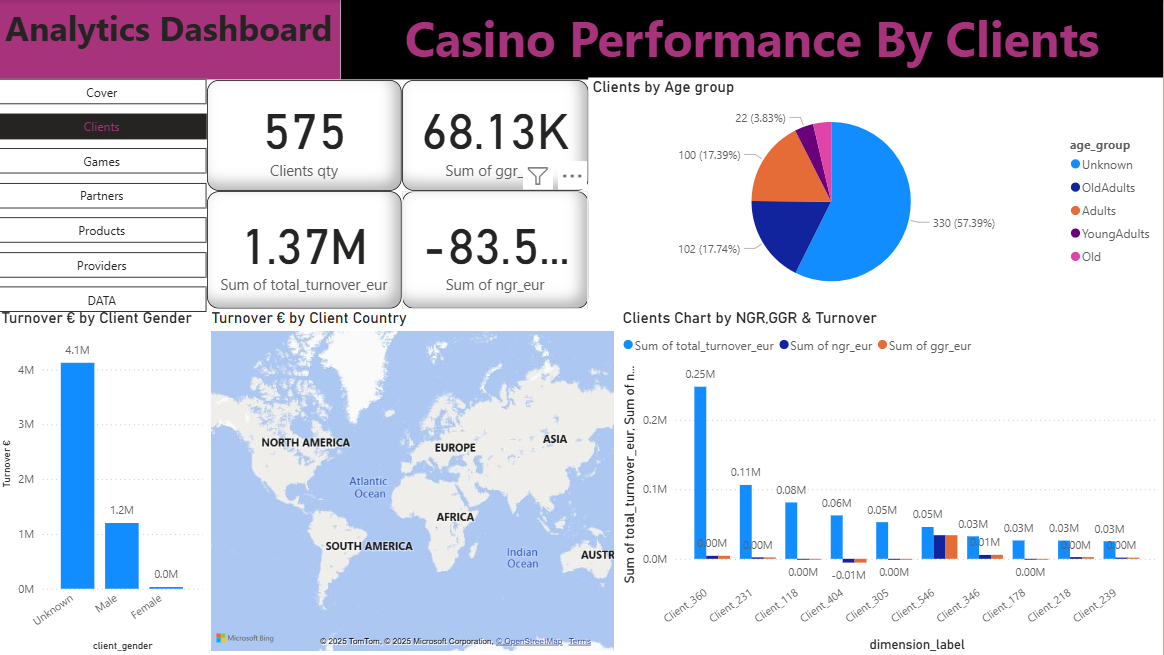

Layout of this report page (visuals, bound fields, positions):
{"tool":"powerbi","page":{"name":"Clients","canvas":[1280,720],"ordinal":1},"visuals":[{"type":"card","fields":{"Values":["Sum(casino metrics_by_client.total_turnover_eur)"]},"box":[230.8,209.3,213.6,129],"z":0},{"type":"card","fields":{"Values":["Sum(casino metrics_by_client.ggr_eur)"]},"box":[444.4,87.5,205,121.9],"z":1000},{"type":"card","fields":{"Values":["Sum(casino metrics_by_client.ngr_eur)"]},"box":[444.4,209.3,205,129],"z":2000},{"type":"card","fields":{"Values":["Table.Clients qty"]},"box":[230.8,87.5,213.6,121.9],"z":3000},{"type":"textbox","box":[377.1,0,903.2,87.5],"z":4000},{"type":"textbox","box":[0,0,377.1,87.5],"z":5000},{"type":"pieChart","title":"Clients by Age group","fields":{"Y":["Table.Clients Age"],"Category":["casino clients.age_group"]},"box":[649.5,84.6,630.8,253.8],"z":6000},{"type":"filledMap","title":"Turnover € by Client Country","fields":{"Category":["casino clients.client_country"]},"box":[230.8,338.4,451.6,381.4],"z":7000},{"type":"clusteredColumnChart","title":"Turnover € by Client Gender","fields":{"Category":["casino clients.client_gender"],"Y":["Table.Turnover €"]},"box":[0,338.4,230.8,381.4],"z":8000},{"type":"clusteredColumnChart","title":"Clients Chart by NGR,GGR & Turnover","fields":{"Category":["casino metrics_by_client.dimension_label"],"Y":["Sum(casino metrics_by_client.total_turnover_eur)","Sum(casino metrics_by_client.ngr_eur)","Sum(casino metrics_by_client.ggr_eur)"]},"box":[682.4,338.4,597.9,381.4],"z":9000},{"type":"pageNavigator","box":[0,87.1,230.7,257.7],"z":10000}]}

Visuals, with their boxes in screenshot pixels (x1, y1, x2, y2), scaled from the page's 1280x720 canvas onto the 1164x655 screenshot:
card - Sum(casino metrics_by_client.total_turnover_eur): (210,190,404,308)
card - Sum(casino metrics_by_client.ggr_eur): (404,80,591,190)
card - Sum(casino metrics_by_client.ngr_eur): (404,190,591,308)
card - Table.Clients qty: (210,80,404,190)
textbox: (343,0,1163,80)
textbox: (0,0,343,80)
"Clients by Age group" pieChart: (591,77,1163,308)
"Turnover € by Client Country" filledMap: (210,308,621,654)
"Turnover € by Client Gender" clusteredColumnChart: (0,308,210,654)
"Clients Chart by NGR,GGR & Turnover" clusteredColumnChart: (621,308,1163,654)
pageNavigator: (0,79,210,314)
